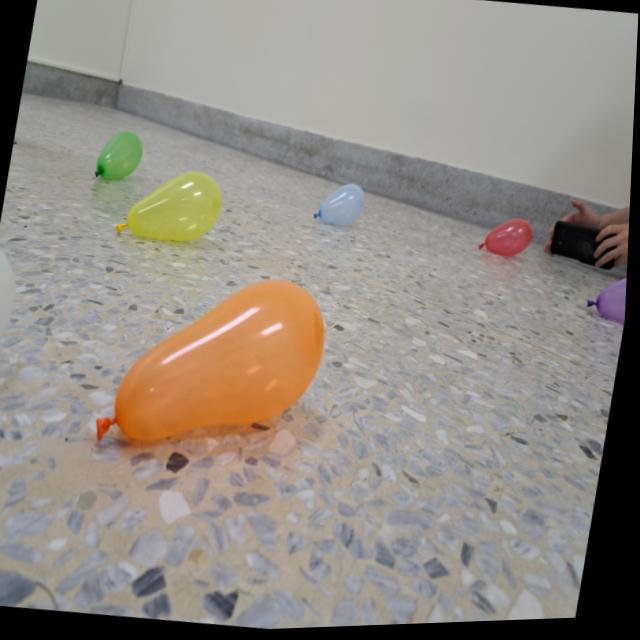other: (95, 259, 337, 471), (116, 163, 228, 251), (93, 126, 146, 188), (0, 239, 25, 358), (313, 181, 370, 230), (587, 276, 630, 333)
red: (479, 218, 536, 265)
